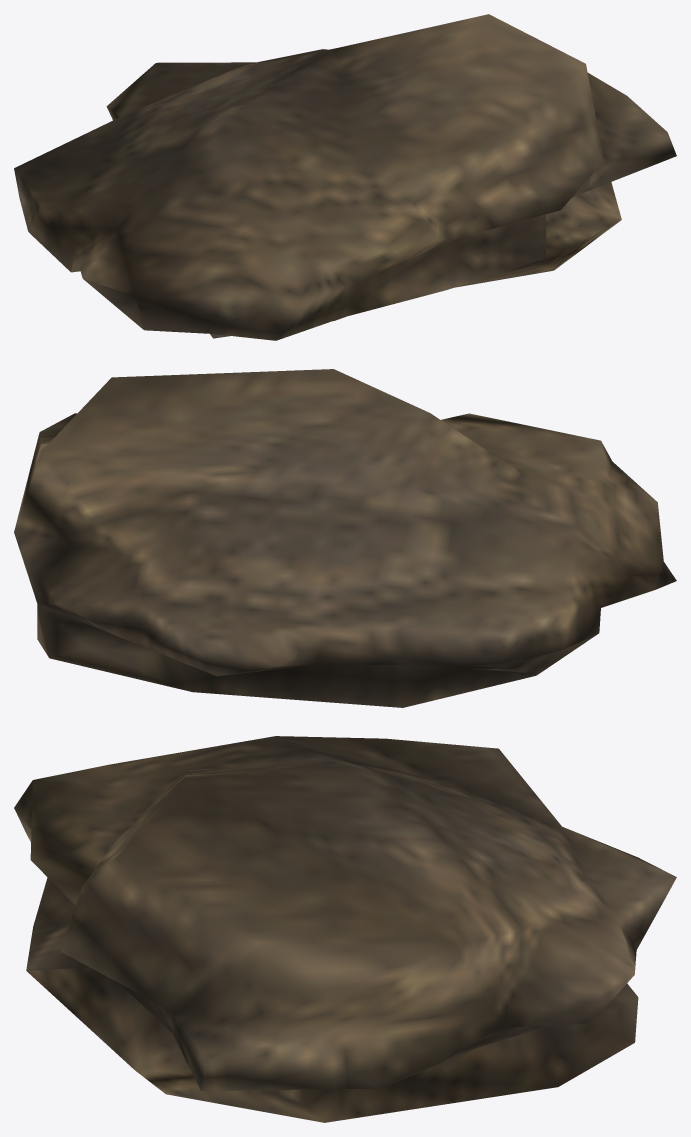
File: Rock01_09.FBX
The picture shows the model from 3 angles, top to bottom: view 1: azimuth 30°, elevation 25°; view 2: azimuth 150°, elevation 25°; view 3: azimuth 270°, elevation 25°; orthographic projection. The views are drawn at different scales.
Visible parts, largest first — view 1: Rock01_09; view 2: Rock01_09; view 3: Rock01_09.
Boxes of the visible parts, left/top/right/bottom form: Rock01_09: left=14, top=14, right=676, bottom=340; Rock01_09: left=14, top=369, right=676, bottom=707; Rock01_09: left=14, top=736, right=676, bottom=1122.
Size of the model in its own units: 238 by 66.48 by 200.
1 material, 1 textured.
